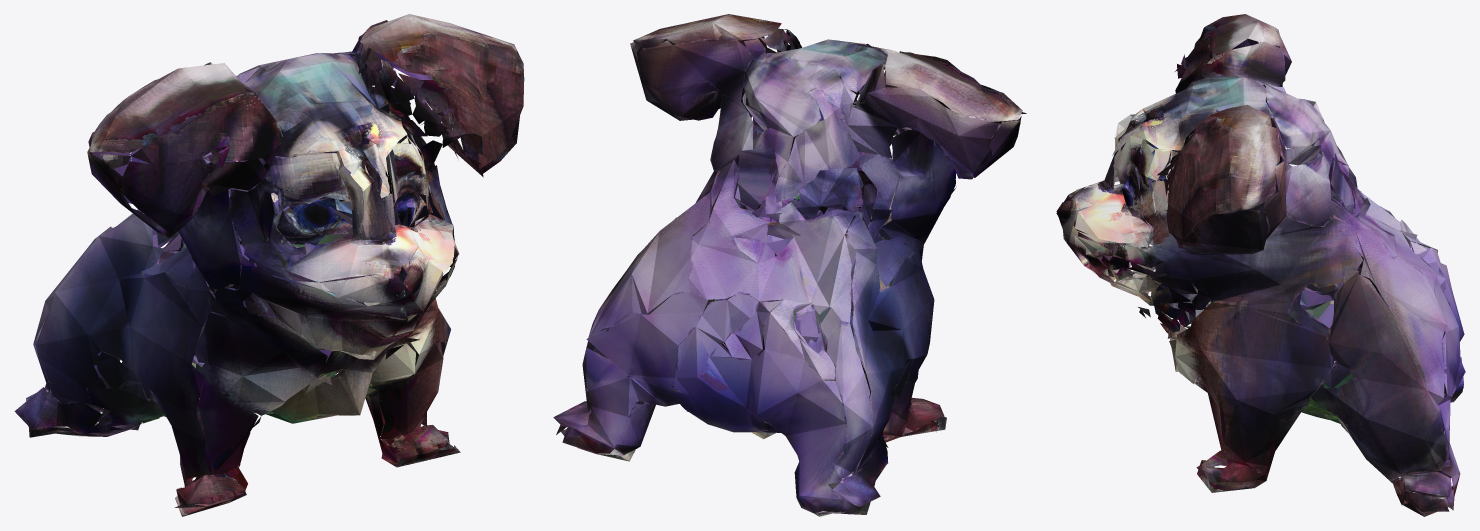
Rendered from lul-dog.glb.
3 renders of one model, left to right at view 1: azimuth 30°, elevation 25°; view 2: azimuth 150°, elevation 25°; view 3: azimuth 270°, elevation 25°, orthographic. The views are drawn at different scales.
Parts seen in each view (by area): view 1: dog-og.001; view 2: dog-og.001; view 3: dog-og.001.
Boxes of the visible parts, x1,y1,x2,y2 form: dog-og.001: [14, 14, 524, 516]; dog-og.001: [553, 14, 1026, 516]; dog-og.001: [1056, 14, 1465, 516].
Size of the model in its own units: 1.35 by 1.32 by 1.28.
1 material, 1 textured.
